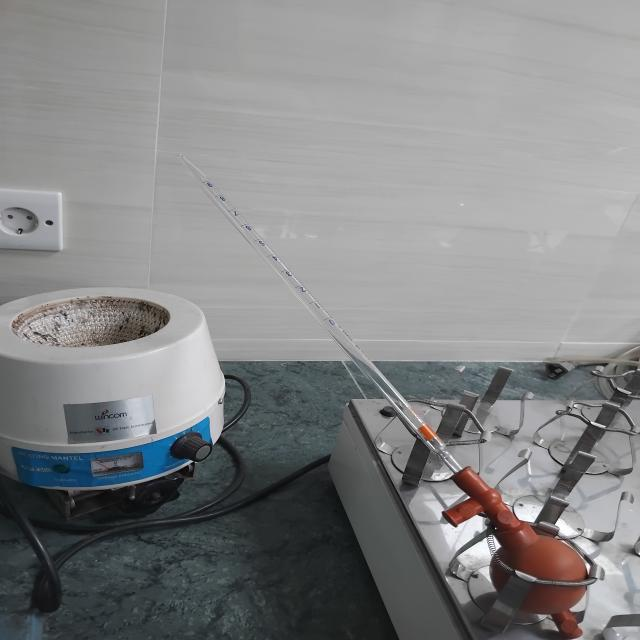Volumetric_Pipet: (146, 119, 640, 640)
